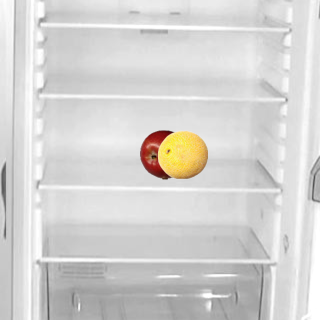Apple Braeburn: (139, 129, 189, 179)
Cantaloupe 1: (157, 129, 207, 179)
